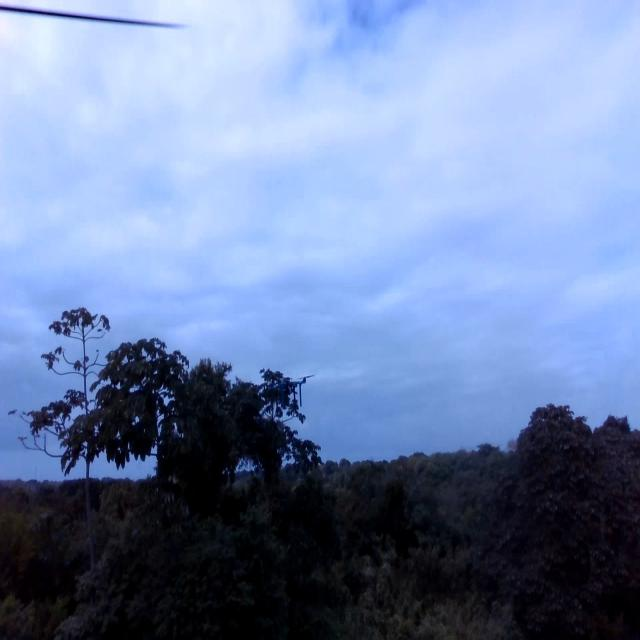-uav-: (271, 360, 316, 419)
